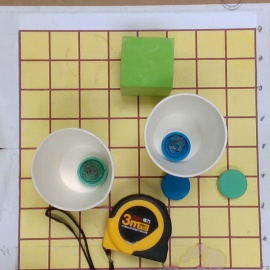blue: (161, 172, 190, 200)
cup_blue: (140, 92, 227, 179)
cup_green: (33, 127, 115, 212)
green: (218, 168, 248, 199)
